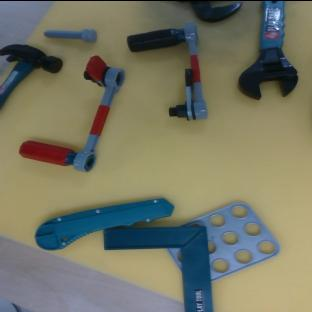non_pass: (126, 21, 214, 131)
pass: (16, 48, 151, 193)
